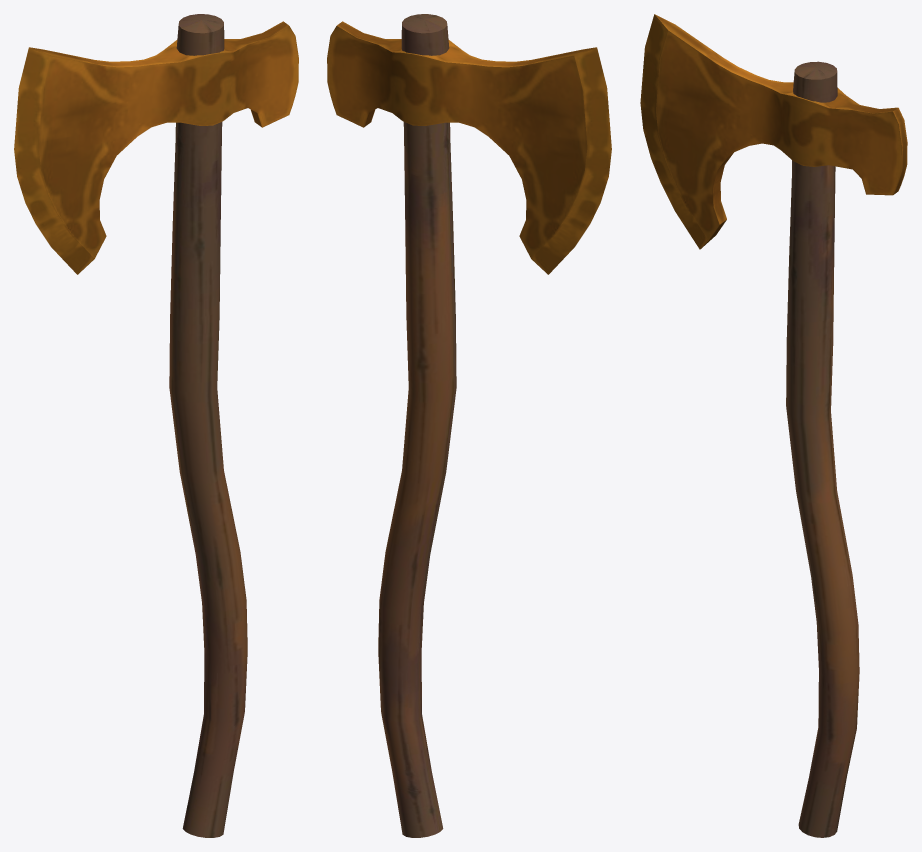
File: axe_bronze.gltf
3 renders of one model, left to right at view 1: azimuth 30°, elevation 25°; view 2: azimuth 150°, elevation 25°; view 3: azimuth 330°, elevation 25°, orthographic. The views are drawn at different scales.
Visible parts, largest first — view 1: Axe_Bronze; view 2: Axe_Bronze; view 3: Axe_Bronze.
Boxes of the visible parts, bbox=[...] form: Axe_Bronze: bbox=[14, 14, 298, 837]; Axe_Bronze: bbox=[327, 14, 611, 837]; Axe_Bronze: bbox=[640, 14, 907, 837].
Size of the model in its own units: 0.2945 by 0.8269 by 0.046.
1 material, 1 textured.
